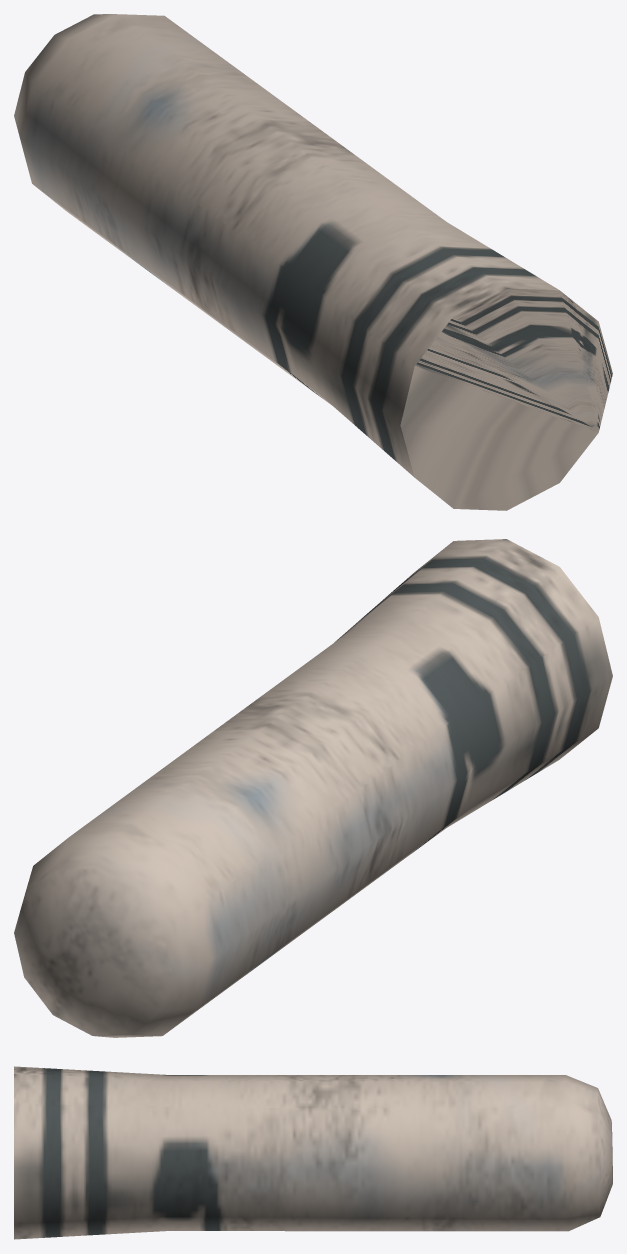
The model's file is Fuse box_Botão.fbx.
The picture shows the model from 3 angles, top to bottom: view 1: azimuth 30°, elevation 25°; view 2: azimuth 150°, elevation 25°; view 3: azimuth 270°, elevation 25°; orthographic projection. The views are drawn at different scales.
Parts seen in each view (by area): view 1: Botao; view 2: Botao; view 3: Botao.
Boxes of the visible parts, x1,y1,x2,y2 form: Botao: [14, 14, 612, 510]; Botao: [14, 539, 612, 1037]; Botao: [14, 1066, 612, 1239].
Size of the model in its own units: 0.6549 by 0.6549 by 2.26.
